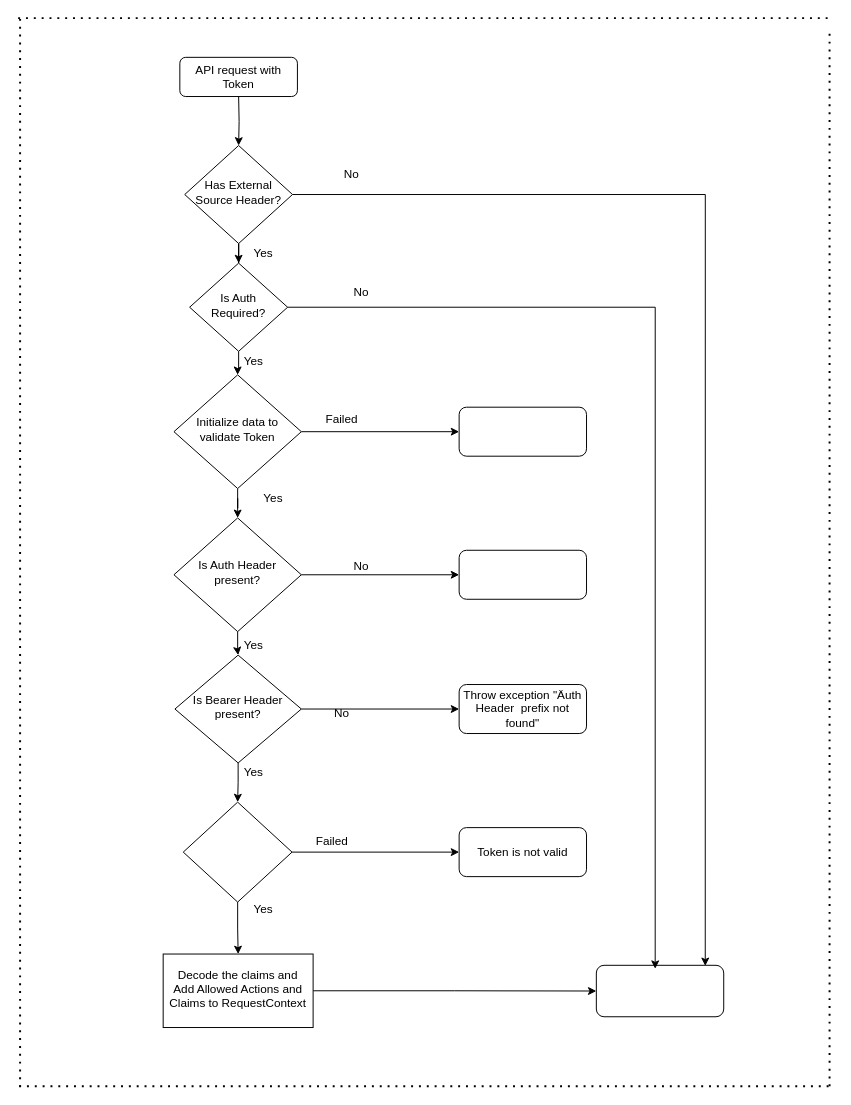
The diagram is 851 pixels wide and 1105 high, and some of its shapes have lost their labels. The shapes that lost their labels are listed below. From the top down, each one's box as (x1, y1, x2, y2) in pixels, then its label:
(458, 406, 587, 456): Return 503 Error (Service Unavailable)
(458, 549, 587, 599): Throw exception "Äuth Header not found"
(182, 801, 292, 902): Validate Token
(595, 964, 724, 1017): Request the Delegate and access the controller
